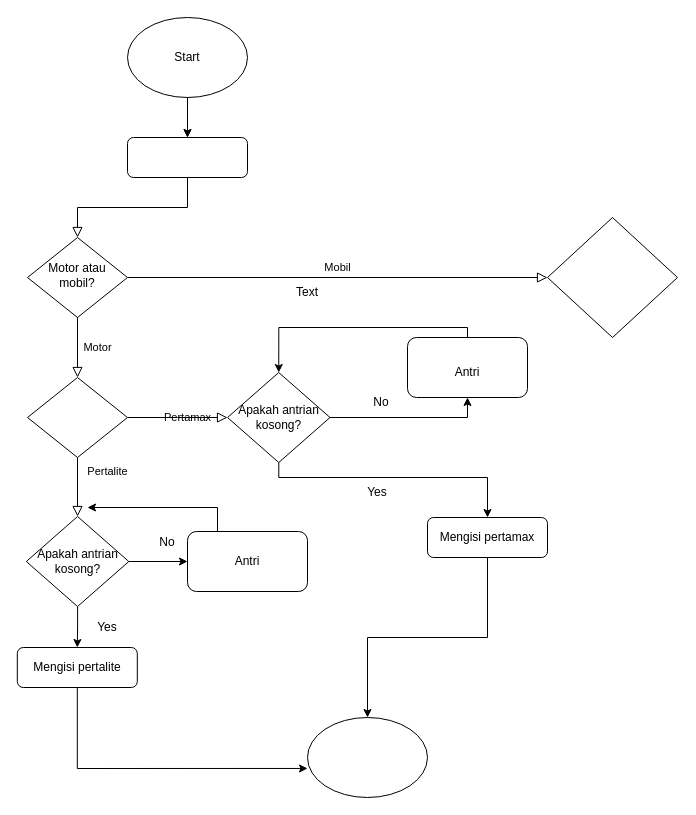
The diagram is 696 pixels wide and 815 high, and some of its shapes have lost their labels. Here are the shapes that lost their labels. From the top down, the box of each, then its label:
(126, 136, 248, 178): Konsumen isi BBM
(546, 216, 678, 338): Pertalite / pertamax / pertamax plus
(26, 376, 128, 458): Pertalite atau pertamax
(306, 716, 428, 798): End
